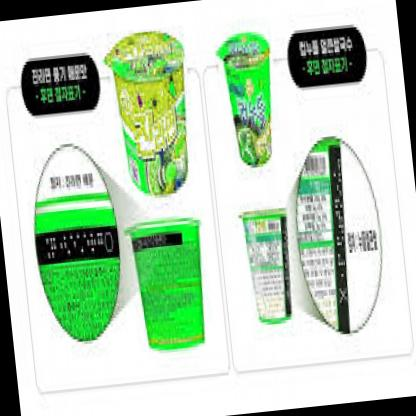Ramen: (106, 18, 202, 208), (218, 24, 280, 176)
